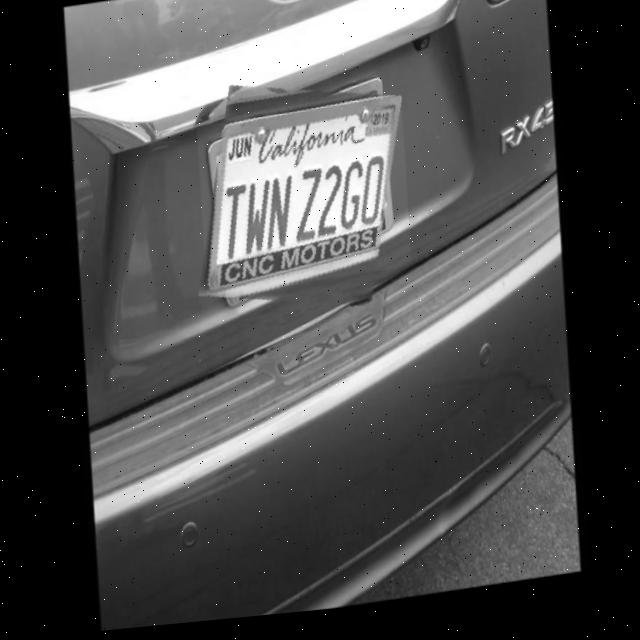LicensePlate: (207, 105, 401, 300)
